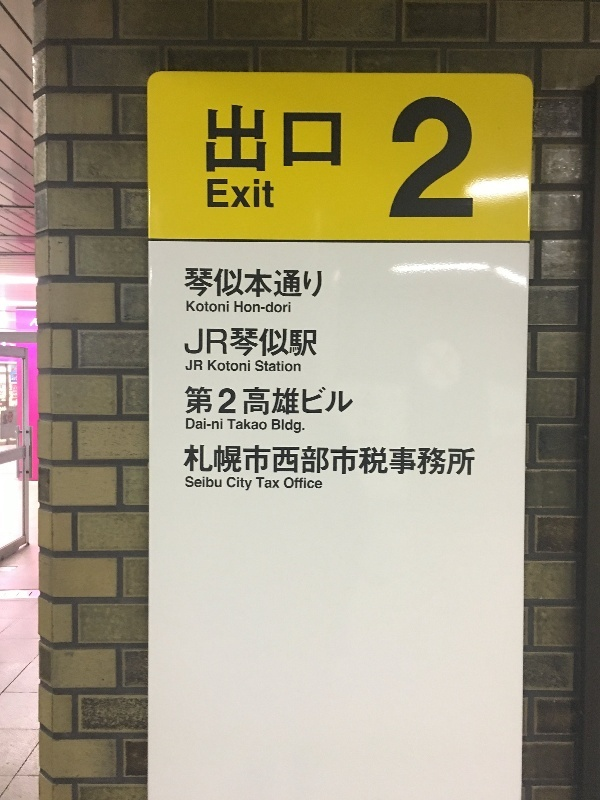text: (401, 96, 416, 218), (417, 96, 432, 218), (433, 96, 448, 218), (449, 96, 464, 218), (209, 105, 224, 173), (225, 105, 240, 173), (241, 105, 256, 173), (257, 105, 272, 173), (273, 105, 288, 173), (289, 105, 304, 173), (305, 105, 320, 173), (321, 105, 336, 173), (465, 96, 473, 218), (394, 96, 400, 218), (193, 444, 208, 476), (209, 444, 224, 476), (225, 444, 240, 476), (241, 444, 256, 476), (257, 444, 272, 476), (273, 444, 288, 476), (289, 444, 304, 476), (305, 444, 320, 476), (321, 444, 336, 476), (337, 444, 352, 476), (353, 444, 368, 476), (369, 444, 384, 476), (385, 444, 400, 476), (401, 444, 416, 476), (417, 444, 432, 476), (433, 444, 448, 476), (449, 444, 464, 476), (193, 268, 208, 298), (209, 268, 224, 298), (225, 268, 240, 298), (241, 268, 256, 298), (257, 268, 272, 298), (273, 268, 288, 298), (289, 268, 304, 298), (305, 268, 320, 298), (337, 387, 353, 415), (209, 179, 224, 208), (225, 179, 240, 208), (241, 179, 256, 208), (257, 179, 272, 208), (241, 329, 256, 357), (257, 329, 272, 357), (273, 329, 288, 357), (289, 329, 304, 357), (193, 387, 208, 415), (209, 387, 224, 415), (225, 387, 240, 415), (241, 387, 256, 415), (257, 387, 272, 415), (273, 387, 288, 415), (289, 387, 304, 415), (305, 387, 320, 415), (321, 387, 336, 415), (193, 329, 208, 355), (209, 329, 224, 355), (465, 444, 476, 476), (305, 329, 316, 357), (230, 329, 240, 357), (337, 105, 341, 173), (184, 444, 192, 476), (289, 419, 305, 434), (273, 419, 288, 434), (185, 268, 192, 298), (185, 387, 192, 415), (185, 329, 192, 355), (227, 477, 240, 491), (209, 360, 224, 372), (225, 360, 240, 372), (193, 418, 208, 430), (241, 418, 256, 430), (193, 476, 208, 488), (257, 477, 272, 489), (289, 477, 304, 489), (305, 477, 320, 489), (209, 418, 223, 430), (241, 477, 253, 491), (193, 301, 208, 312), (209, 301, 224, 312), (241, 302, 256, 313), (257, 302, 272, 313), (273, 302, 288, 313), (257, 361, 272, 372), (273, 361, 288, 372), (227, 418, 240, 430), (209, 476, 222, 488), (206, 105, 208, 173), (289, 361, 301, 372), (257, 418, 267, 430), (193, 360, 203, 371), (241, 360, 250, 372), (273, 477, 280, 489), (186, 418, 192, 430), (186, 476, 192, 488), (186, 360, 192, 371), (187, 301, 192, 312), (235, 302, 240, 313), (225, 329, 227, 355), (284, 477, 288, 489), (225, 301, 229, 312), (321, 268, 322, 298), (207, 179, 208, 208), (273, 179, 274, 208), (289, 302, 291, 313), (321, 477, 322, 489)
